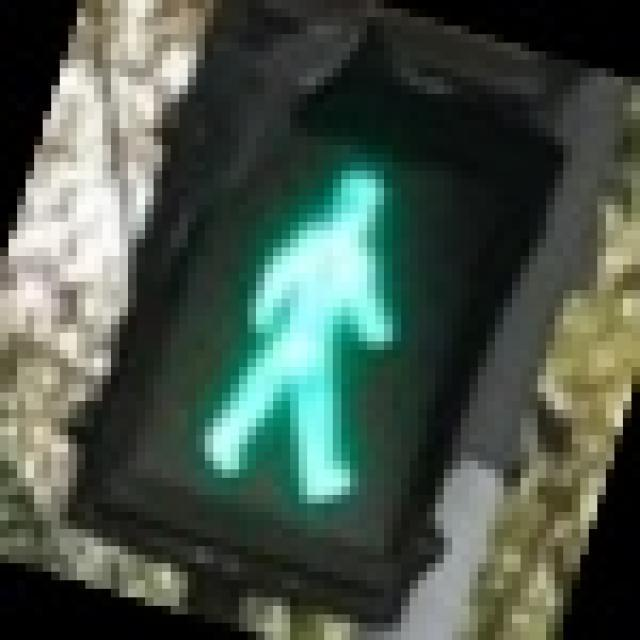geen-crossing: (110, 59, 503, 554)
